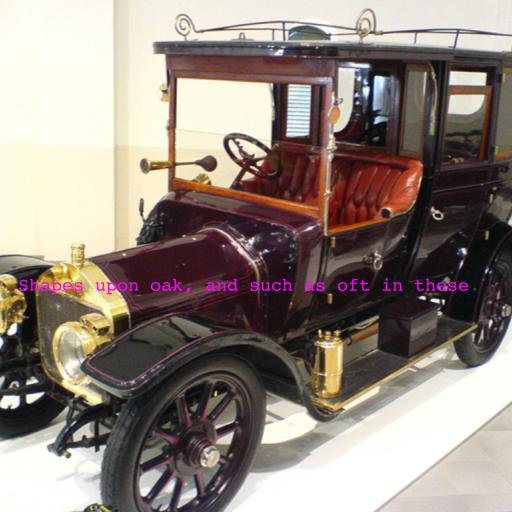Courier: (17, 278, 469, 295)
